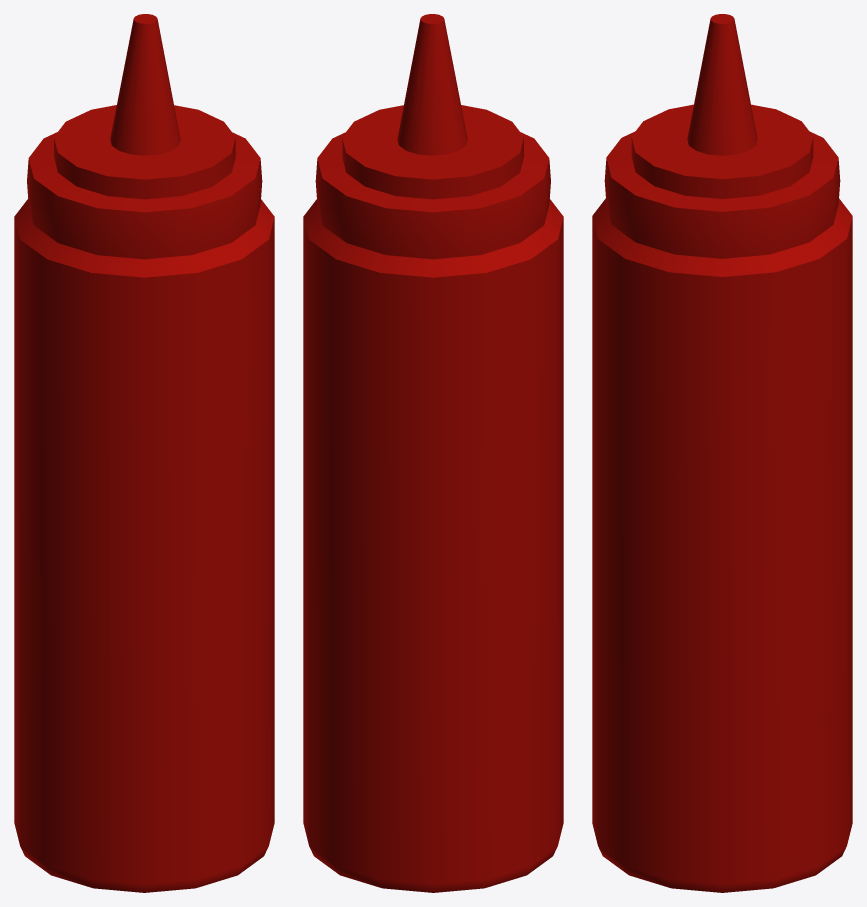
The model's file is Sauce_Generic.fbx.
The picture shows the model from 3 angles, left to right: view 1: azimuth 30°, elevation 25°; view 2: azimuth 150°, elevation 25°; view 3: azimuth 270°, elevation 25°; orthographic projection.
Visible parts, largest first — view 1: Sauce_Generic; view 2: Sauce_Generic; view 3: Sauce_Generic.
Part boxes in pixels (x1,y1,x2,y2): Sauce_Generic: (14,14,274,892); Sauce_Generic: (303,14,563,892); Sauce_Generic: (592,14,852,892).
Size of the model in its own units: 5.66 by 19.93 by 5.7.
1 material, 1 textured.
